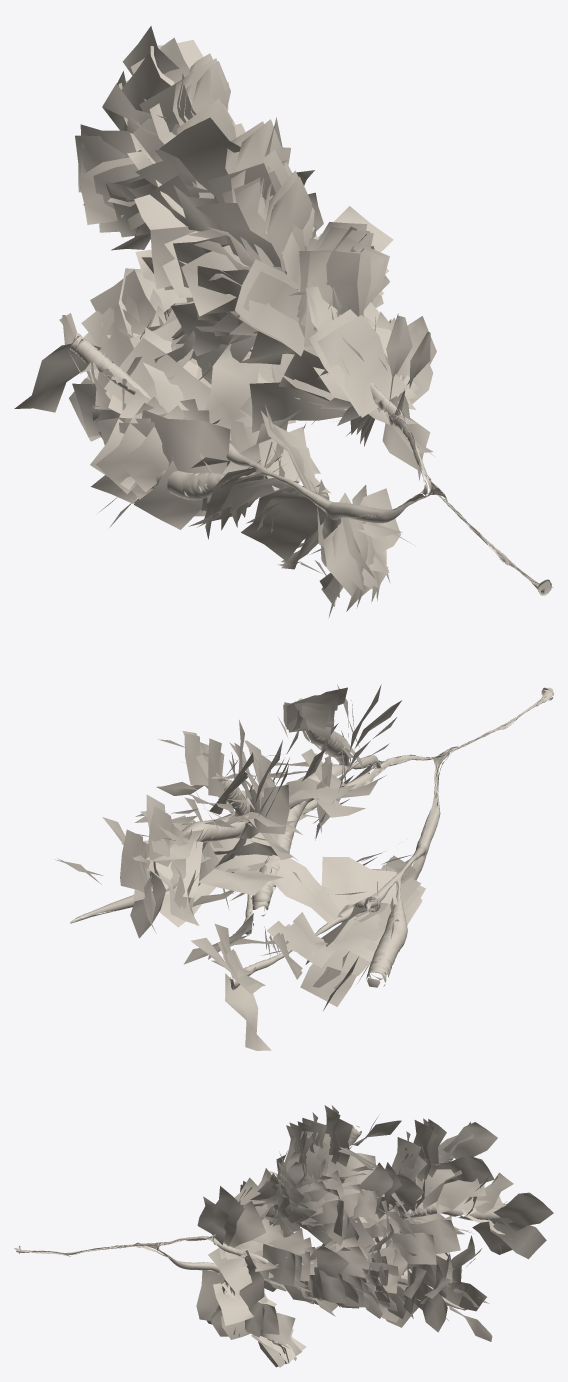
File: tree_cand03.glb
3 views of the same model, one above another, from view 1: azimuth 30°, elevation 25°; view 2: azimuth 150°, elevation 25°; view 3: azimuth 270°, elevation 25° (orthographic). The views are drawn at different scales.
Parts seen in each view (by area): view 1: world; view 2: world; view 3: world.
Part boxes in pixels (x1,y1,x2,y2): world: (14,26,553,617); world: (55,684,553,1050); world: (14,1105,553,1367).
Size of the model in its own units: 0.9279 by 1.07 by 1.98.
